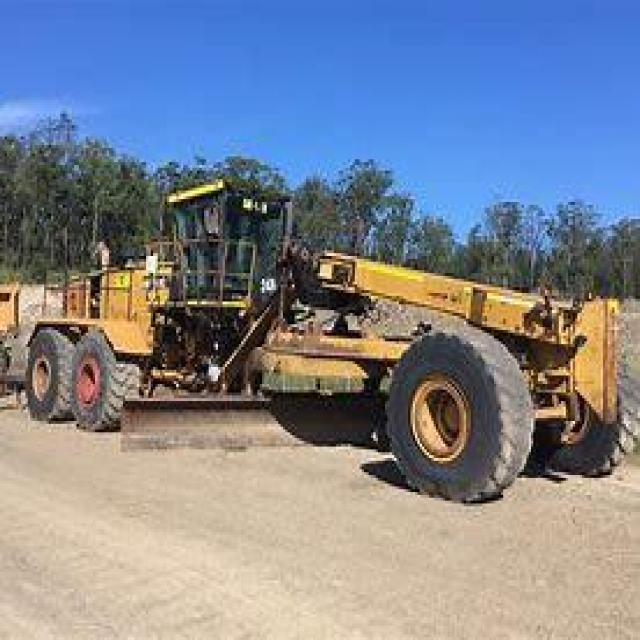Grader: (12, 162, 636, 515)
